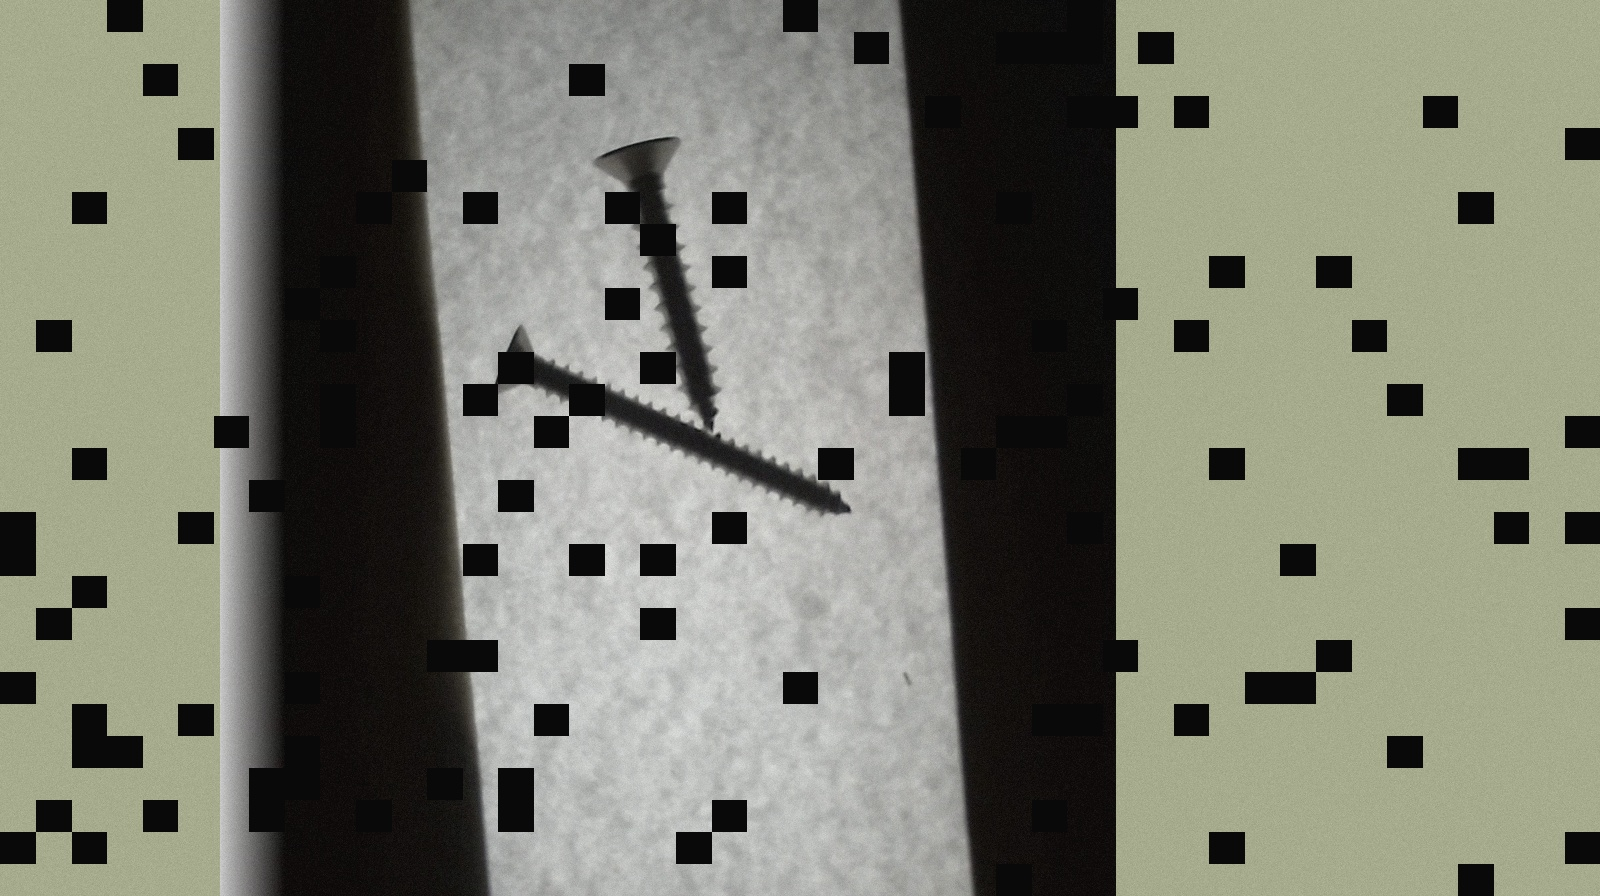S001: (585, 126, 725, 445)
S002: (485, 311, 865, 528)
